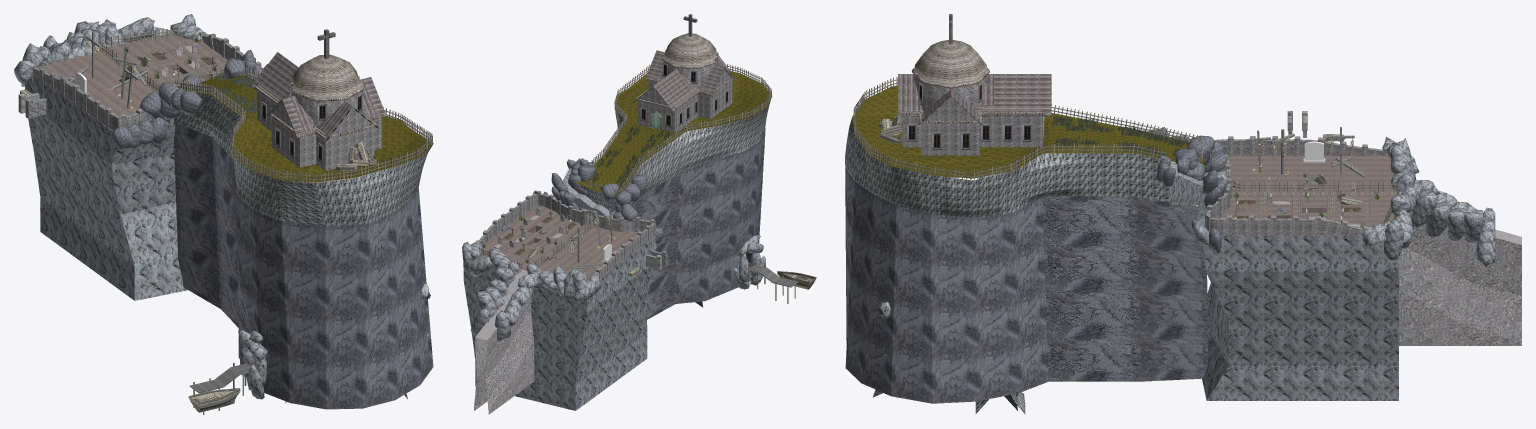
File: Graveyard Overlooking Sea.gltf
3 views of the same model, side by side, from view 1: azimuth 30°, elevation 25°; view 2: azimuth 150°, elevation 25°; view 3: azimuth 270°, elevation 25° (orthographic). The views are drawn at different scales.
Parts seen in each view (by area): view 1: LowerRocks, Plane_015, HigherRocks, Church 1, Ground, Floor, Fence_Wood_Fine_004, Church_1_Dome_001, Wall_Barrier_Brick, Boat, Church_1_Dome, Harbour (+9 smaller); view 2: Plane_015, LowerRocks, Ground, HigherRocks, Floor, Church 1, Plane_034, Fence_Wood_Fine_004, Wall_Barrier_Brick_003, Wall_Barrier_Brick, Church_1_Dome_001, PathRock (+9 smaller); view 3: LowerRocks, Plane_015, HigherRocks, Plane_034, Church 1, Ground, Floor, Wall_Barrier_Brick_003, Fence_Wood_Fine_004, Church_1_Dome_001, Wall_Barrier_Brick, PathRock (+5 smaller).
Part boxes in pixels (<box>): LowerRocks: <box>173,122,433,409</box>; Plane_015: <box>25,73,187,300</box>; HigherRocks: <box>174,91,433,226</box>; Church 1: <box>251,52,386,170</box>; Ground: <box>183,73,433,182</box>; Floor: <box>33,31,227,130</box>; Fence_Wood_Fine_004: <box>173,67,432,182</box>; Church_1_Dome_001: <box>290,54,363,101</box>; Wall_Barrier_Brick: <box>30,63,151,130</box>; Boat: <box>188,388,240,412</box>; Church_1_Dome: <box>290,86,362,126</box>; Harbour: <box>189,363,250,393</box>; Plane_015: <box>463,236,656,410</box>; LowerRocks: <box>632,131,765,319</box>; Ground: <box>576,71,772,195</box>; HigherRocks: <box>576,71,770,212</box>; Floor: <box>476,205,654,279</box>; Church 1: <box>633,50,735,132</box>; Plane_034: <box>474,295,534,414</box>; Fence_Wood_Fine_004: <box>591,64,771,192</box>; Wall_Barrier_Brick_003: <box>475,191,587,244</box>; Wall_Barrier_Brick: <box>588,214,655,281</box>; Church_1_Dome_001: <box>662,33,718,68</box>; PathRock: <box>562,168,612,222</box>; LowerRocks: <box>845,168,1208,403</box>; Plane_015: <box>1202,235,1398,400</box>; HigherRocks: <box>845,104,1204,217</box>; Plane_034: <box>1399,223,1521,345</box>; Church 1: <box>898,74,1051,155</box>; Ground: <box>853,85,1204,178</box>; Floor: <box>1218,155,1396,235</box>; Wall_Barrier_Brick_003: <box>1205,178,1368,235</box>; Fence_Wood_Fine_004: <box>853,77,1204,179</box>; Church_1_Dome_001: <box>911,40,989,88</box>; Wall_Barrier_Brick: <box>1214,136,1387,178</box>; PathRock: <box>1168,161,1226,216</box>.
Size of what is drawn, in the model's own units: 29.21 by 41.5 by 69.97.
41 materials, 35 textured.
